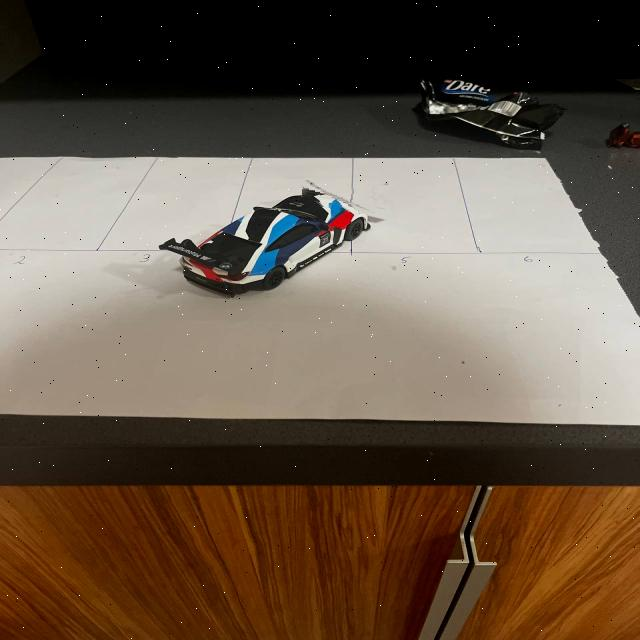KX 7777 KX: (305, 181, 376, 215)
